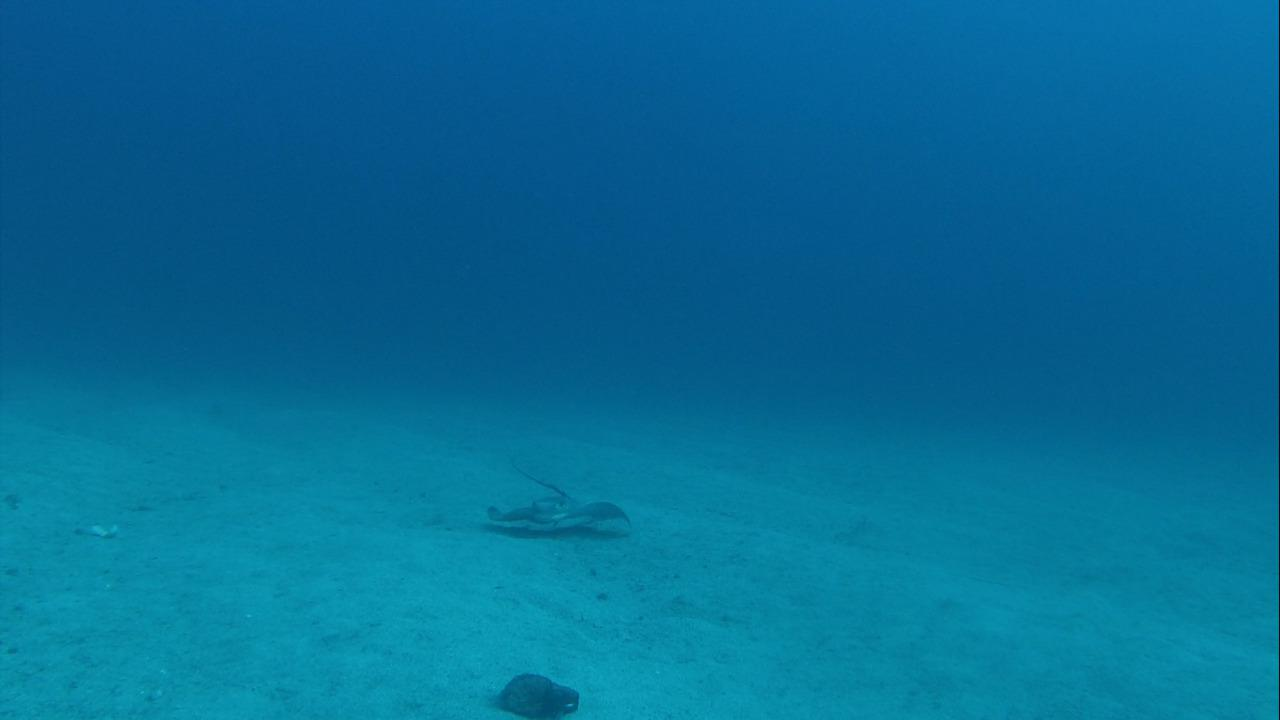myliobatis: (475, 458, 635, 541)
